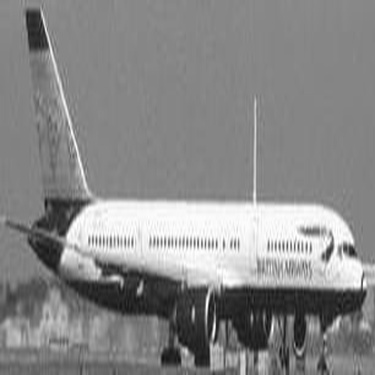airplane: (1, 9, 371, 369)
